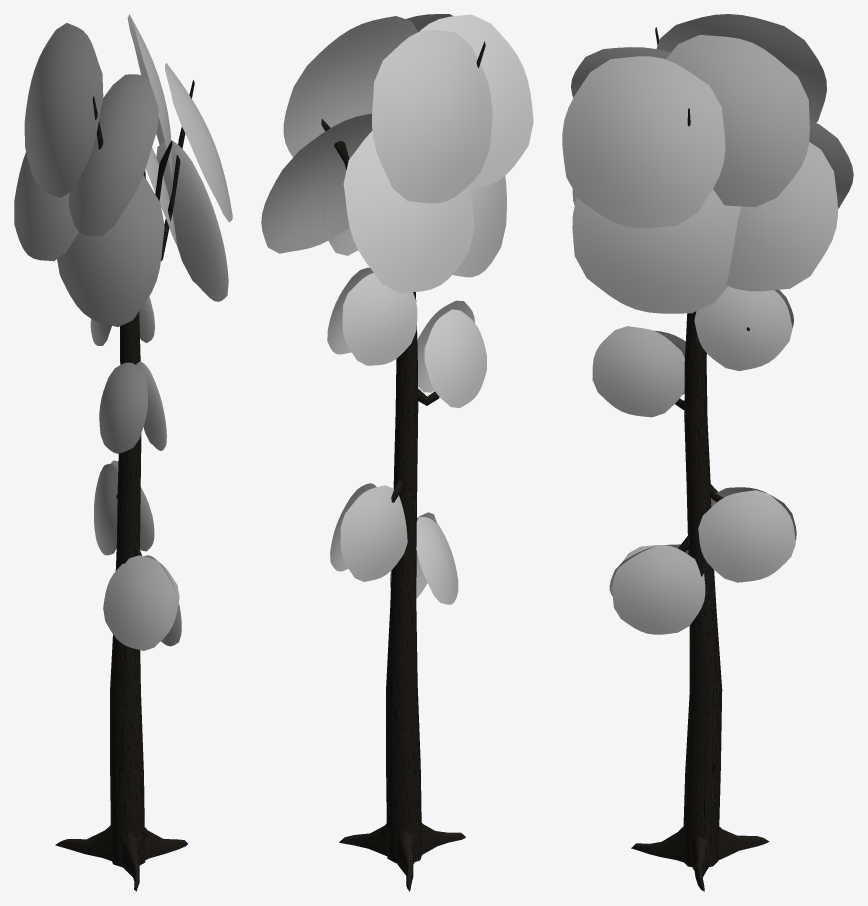
Rendered from backgoundtreefbx.fbx.
The picture shows the model from 3 angles, left to right: view 1: azimuth 30°, elevation 25°; view 2: azimuth 150°, elevation 25°; view 3: azimuth 270°, elevation 25°; orthographic projection. The views are drawn at different scales.
Visible parts, largest first — view 1: pCylinder1, pPlane8, pPlane7, pPlane6, pPlane16, pPlane2, pPlane5, pPlane3, pPlane15, pPlane1, pPlane14, pPlane10 (+8 smaller); view 2: pPlane8, pCylinder1, pPlane5, pPlane14, pPlane13, pPlane6, pPlane4, pPlane1, pPlane3, pPlane7, pPlane2, pPlane9 (+6 smaller); view 3: pPlane15, pPlane14, pPlane16, pCylinder1, pPlane13, pPlane11, pPlane12, pPlane10, pPlane9, pPlane8, pPlane5, pPlane6 (+3 smaller).
Part boxes in pixels (box(x1,y1,x2,y2)): pCylinder1: box(110, 311, 145, 867); pPlane8: box(24, 23, 103, 197); pPlane7: box(57, 175, 164, 326); pPlane6: box(68, 74, 158, 235); pPlane16: box(156, 140, 228, 301); pPlane2: box(103, 555, 179, 650); pPlane5: box(14, 152, 78, 261); pPlane3: box(99, 362, 147, 453); pPlane15: box(165, 63, 232, 222); pPlane1: box(94, 463, 117, 555); pPlane14: box(127, 14, 172, 177); pPlane10: box(136, 361, 166, 450); pPlane8: box(372, 30, 492, 203); pCylinder1: box(386, 292, 421, 863); pPlane5: box(343, 131, 474, 293); pPlane14: box(283, 16, 418, 157); pPlane13: box(261, 114, 372, 253); pPlane6: box(419, 14, 533, 189); pPlane4: box(342, 273, 417, 365); pPlane1: box(340, 485, 407, 581); pPlane3: box(424, 309, 486, 408); pPlane7: box(452, 176, 506, 277); pPlane2: box(416, 517, 458, 604); pPlane9: box(327, 267, 373, 354); pPlane15: box(562, 56, 725, 228); pPlane14: box(665, 35, 809, 206); pPlane16: box(572, 189, 741, 313); pCylinder1: box(683, 311, 722, 866); pPlane13: box(726, 142, 837, 291); pPlane11: box(698, 490, 795, 582); pPlane12: box(612, 545, 705, 634); pPlane10: box(592, 326, 684, 417); pPlane9: box(694, 286, 792, 371); pPlane8: box(656, 14, 826, 122); pPlane5: box(809, 120, 853, 208); pPlane6: box(571, 47, 670, 97).
Size of the model in its own units: 18.65 by 92.4 by 29.26.
